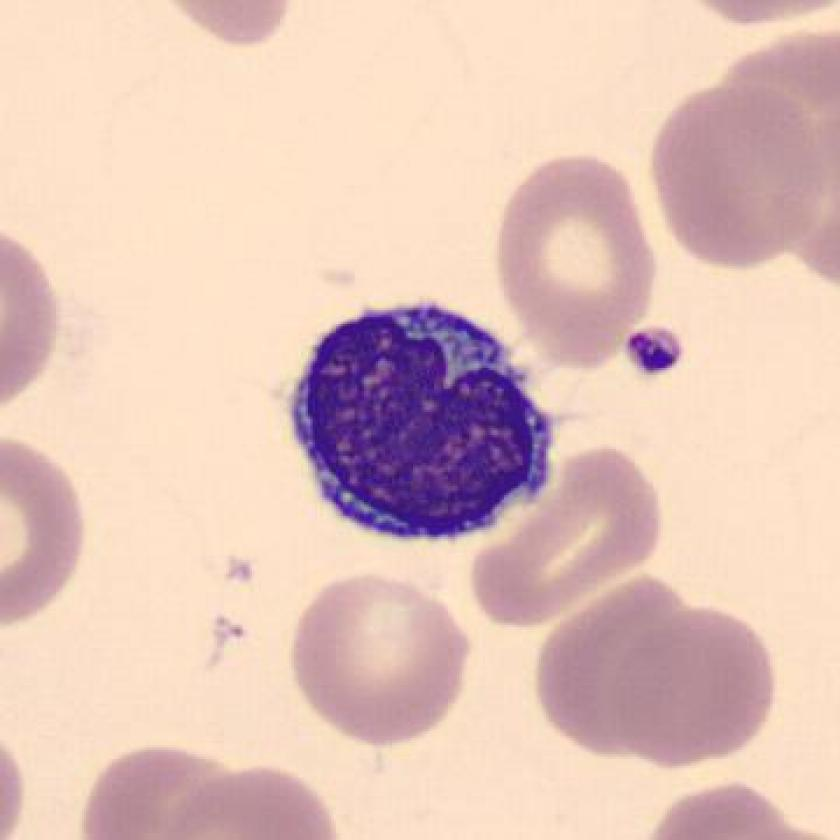lymphocyte: (274, 288, 570, 559)
platelets: (617, 320, 690, 385)
